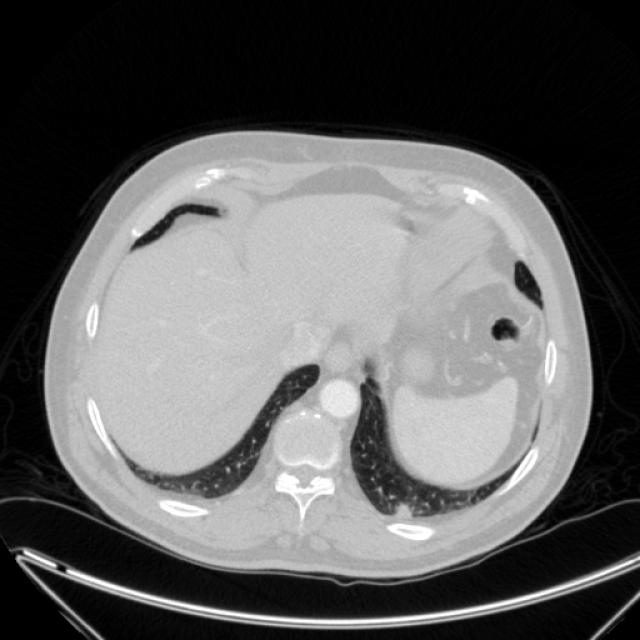nodule: (385, 492, 420, 528)
